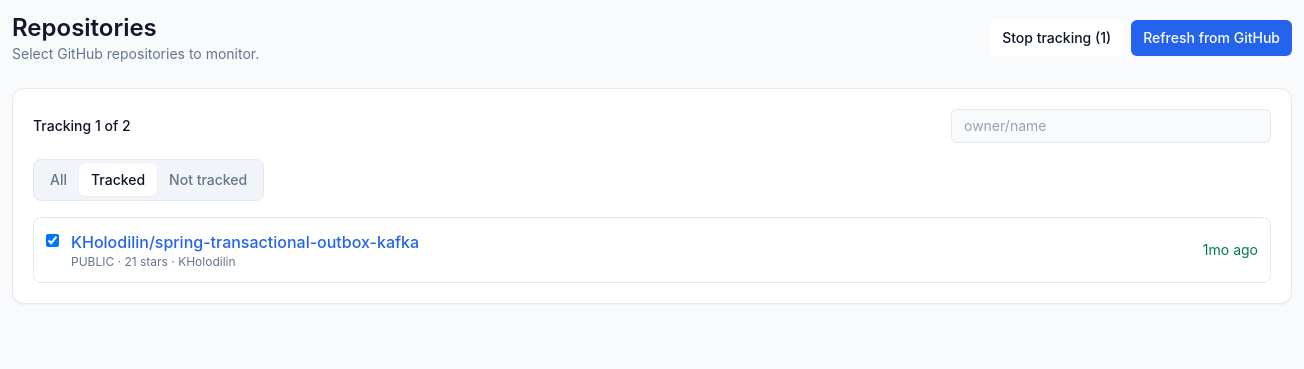
Test: pages › lists repositories and toggles tracking
Expected: the link "KHolodilin/spring-transactional-outbox-kafka" is shown, [71, 230, 419, 254]
Step 1. Click the checkbox → [52, 240], box [46, 234, 59, 247]
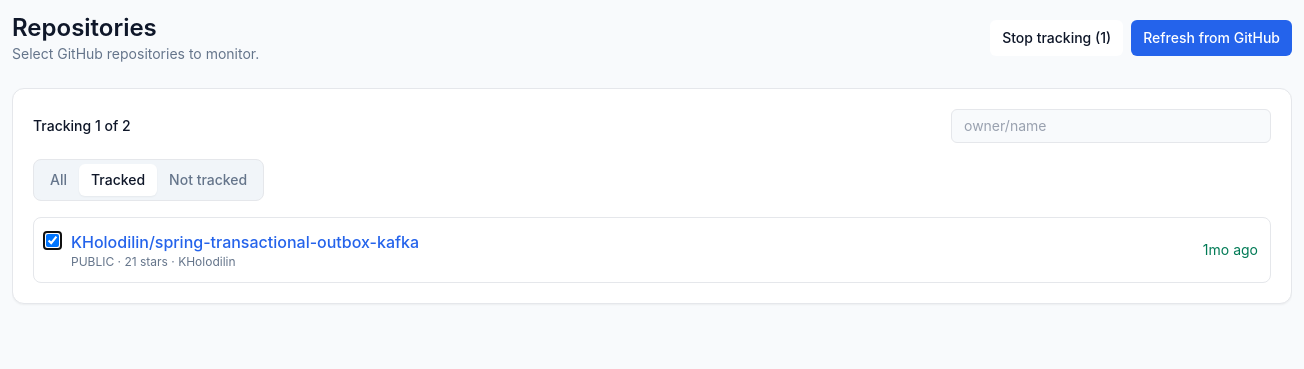
Step 2. Click the button "Refresh from GitHub" → [1212, 38], box [1131, 20, 1292, 56]
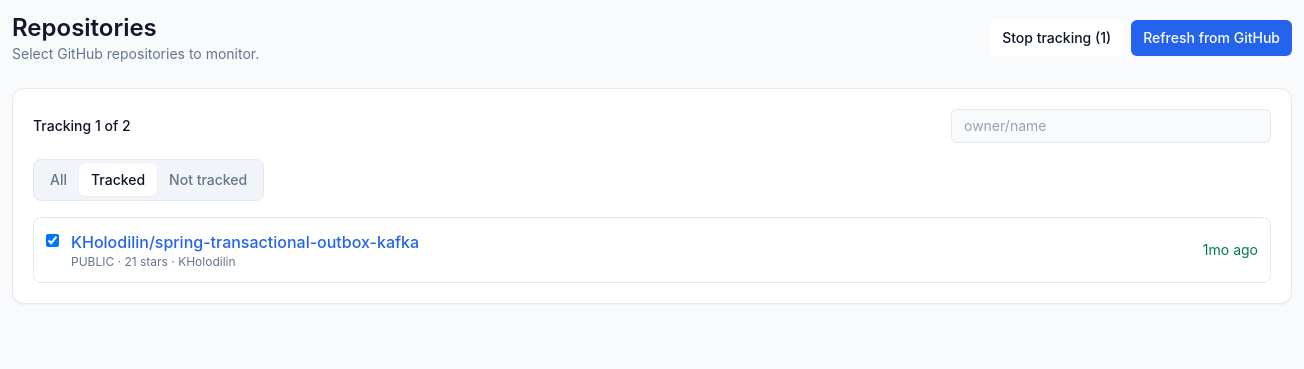
Step 3. Click the button "Refresh from GitHub" → [1212, 38], box [1131, 20, 1292, 56]
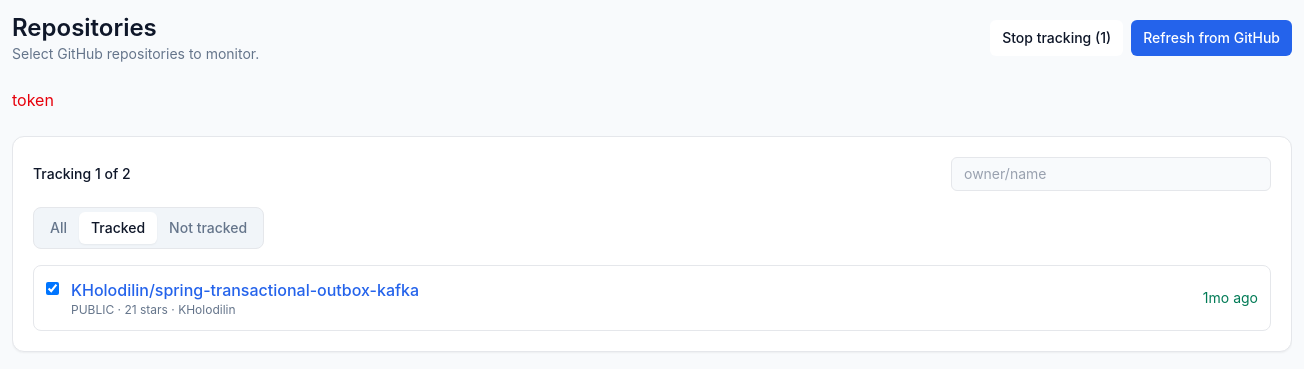
Result: the text "token" is shown at [12, 90, 54, 110]
